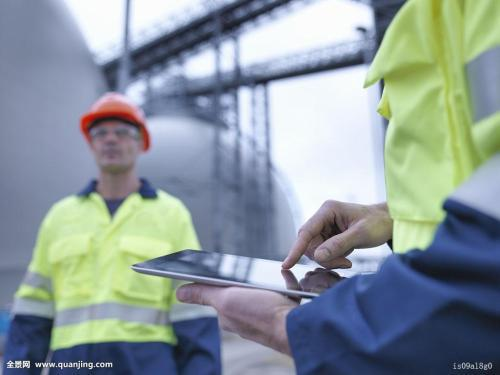helmet: (72, 81, 159, 190)
